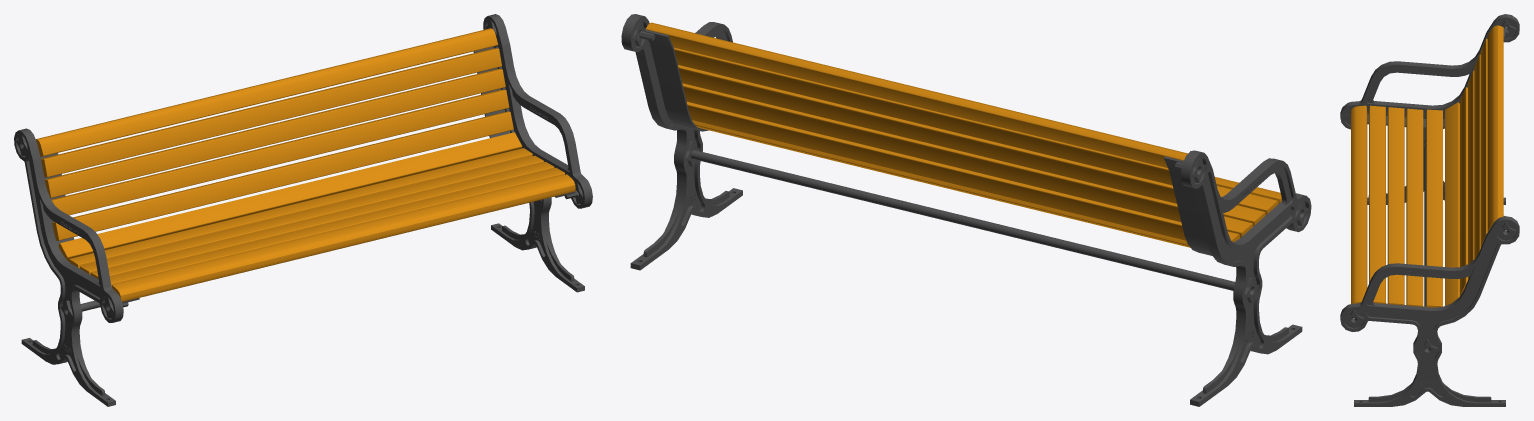
Rendered from Bench.fbx.
3 renders of one model, left to right at view 1: azimuth 30°, elevation 25°; view 2: azimuth 150°, elevation 25°; view 3: azimuth 270°, elevation 25°, orthographic. The views are drawn at different scales.
Parts seen in each view (by area): view 1: _U118_9, _U118_8, _U118_7, _U118_6, _U98_1, _U98_2, _U1_1, _U118_5, _U1_2, _U118_4, _U118_1, _U118_3 (+1 smaller); view 2: _U1_1, _U98_2, _U118_7, _U118_8, _U118_6, _U118_9, _U1_2, _U4_1, _U118_5, _U1301_1, _U13_1; view 3: _U1_2, _U1_1, _U118_3, _U118_2, _U98_2, _U98_1, _U118_4, _U118_1, _U118_5, _U118_9, _U118_6, _U118_8 (+3 smaller).
Part boxes in pixels (<box>): _U118_9: <box>41,48,501,177</box>; _U118_8: <box>44,69,505,198</box>; _U118_7: <box>51,89,509,215</box>; _U118_6: <box>52,111,513,240</box>; _U98_1: <box>112,174,575,301</box>; _U98_2: <box>36,28,498,156</box>; _U1_1: <box>14,128,123,406</box>; _U118_5: <box>58,132,522,261</box>; _U1_2: <box>483,14,592,292</box>; _U118_4: <box>68,148,532,268</box>; _U118_1: <box>110,168,564,286</box>; _U118_3: <box>80,155,543,274</box>; _U1_1: <box>1180,150,1311,406</box>; _U98_2: <box>645,22,1187,167</box>; _U118_7: <box>682,83,1181,221</box>; _U118_8: <box>678,65,1176,203</box>; _U118_6: <box>687,101,1186,240</box>; _U118_9: <box>674,47,1172,185</box>; _U1_2: <box>621,14,742,270</box>; _U4_1: <box>691,150,1235,290</box>; _U118_5: <box>692,120,1190,247</box>; _U1301_1: <box>638,29,708,131</box>; _U13_1: <box>1164,156,1215,259</box>; _U1_2: <box>1340,216,1519,406</box>; _U1_1: <box>1340,14,1519,204</box>; _U118_3: <box>1406,108,1423,306</box>; _U118_2: <box>1387,107,1404,305</box>; _U98_2: <box>1487,25,1503,231</box>; _U98_1: <box>1351,105,1367,303</box>; _U118_4: <box>1426,109,1442,307</box>; _U118_1: <box>1369,105,1385,303</box>; _U118_5: <box>1445,102,1459,305</box>; _U118_9: <box>1480,38,1487,247</box>; _U118_6: <box>1460,87,1467,295</box>; _U118_8: <box>1474,54,1480,258</box>.
Bounding box in the file's own units: 74.5 × 31.68 × 27.52.
